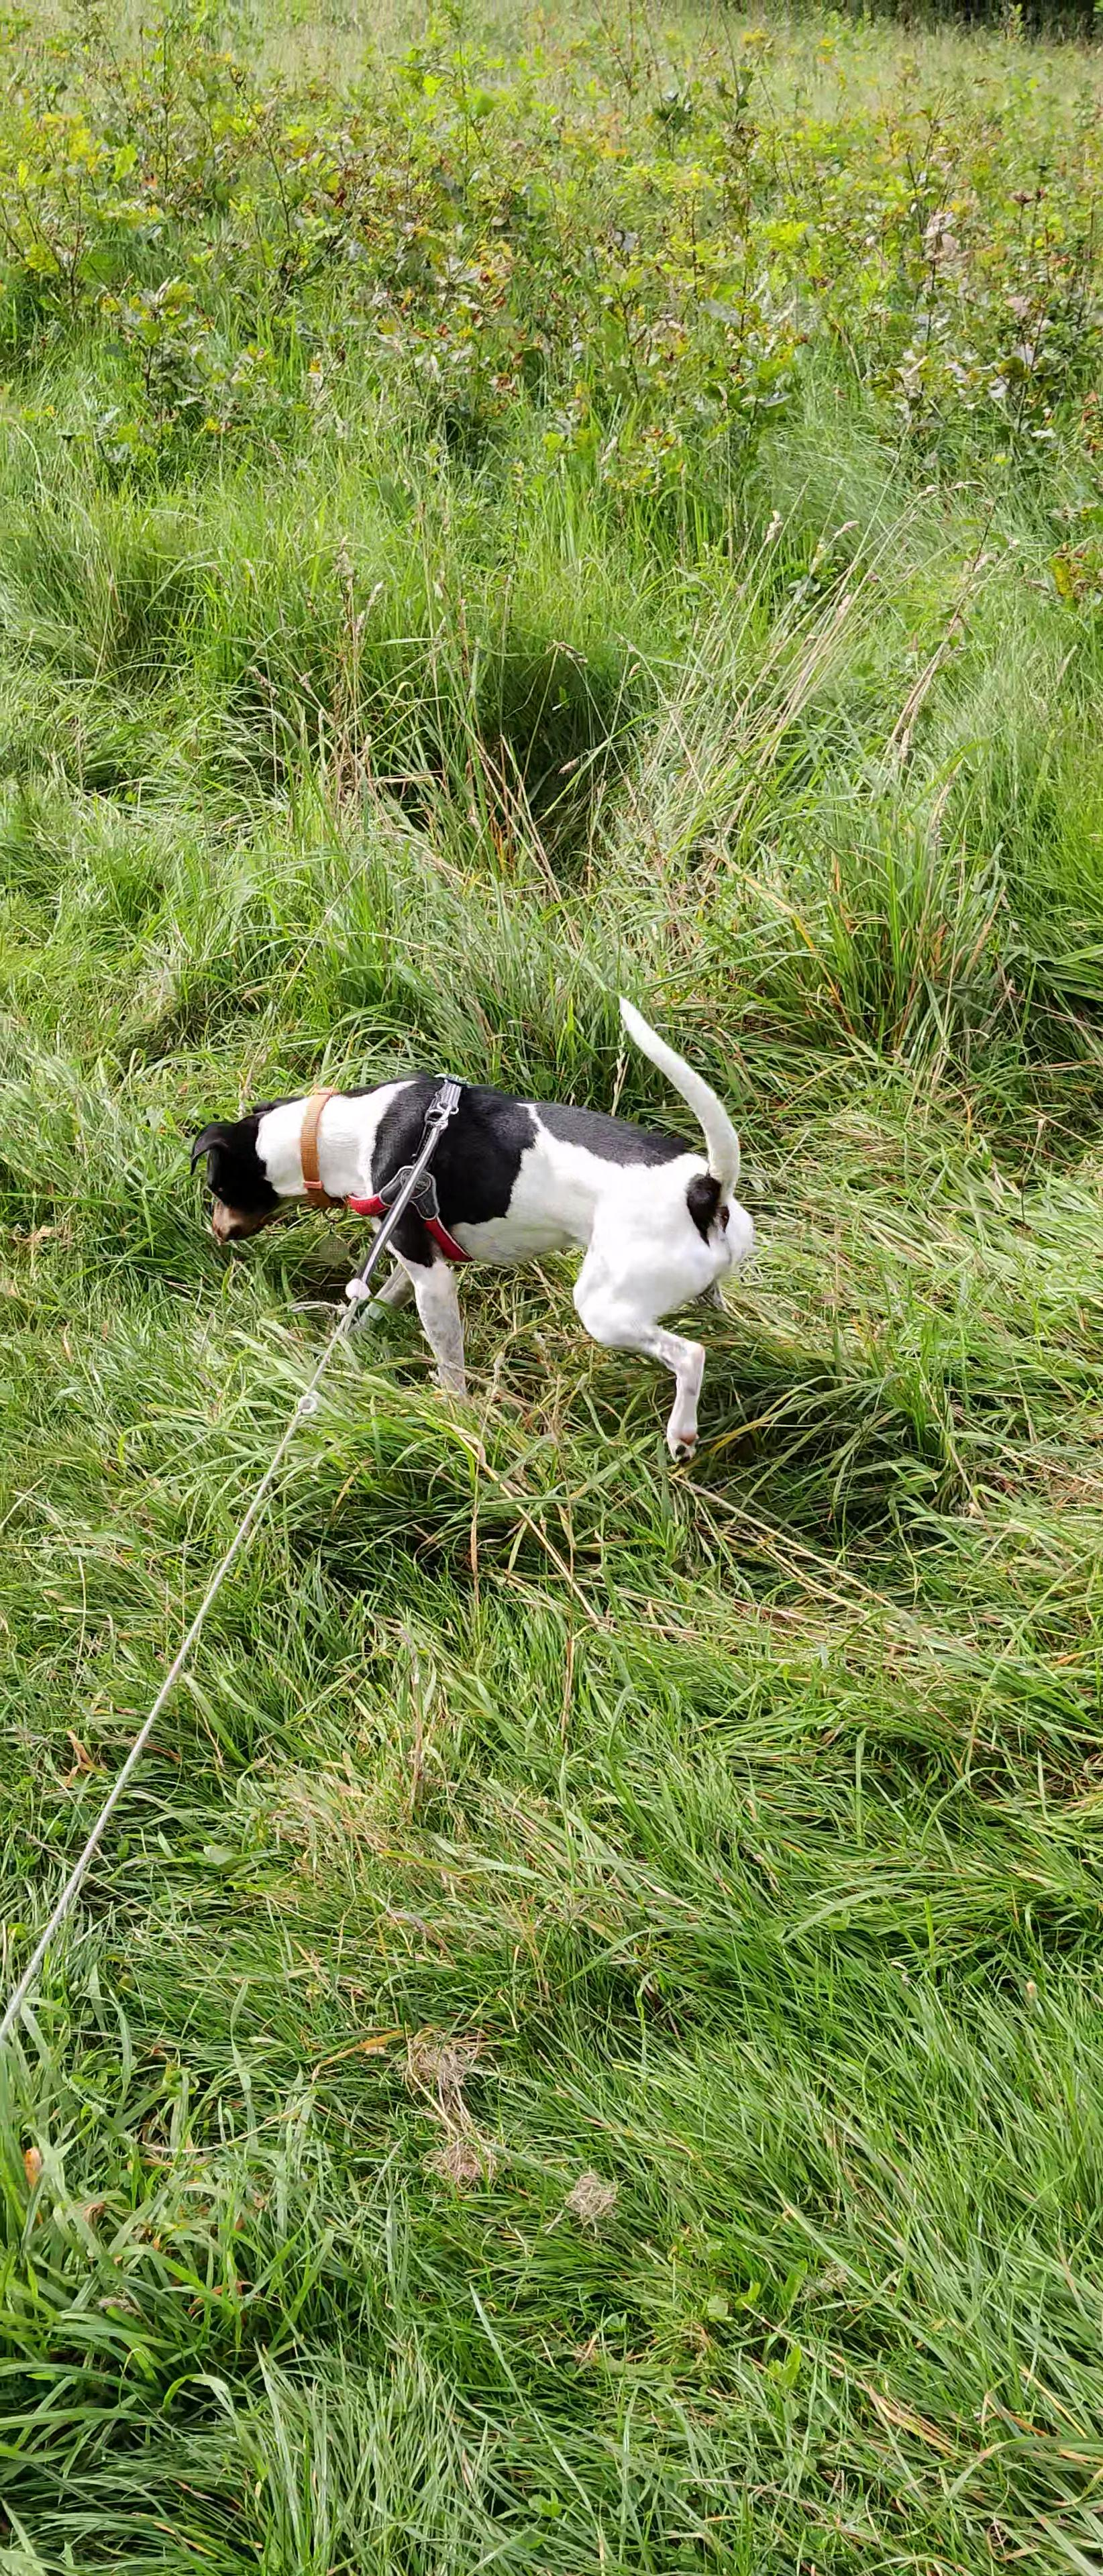Dog: (176, 979, 809, 1482)
